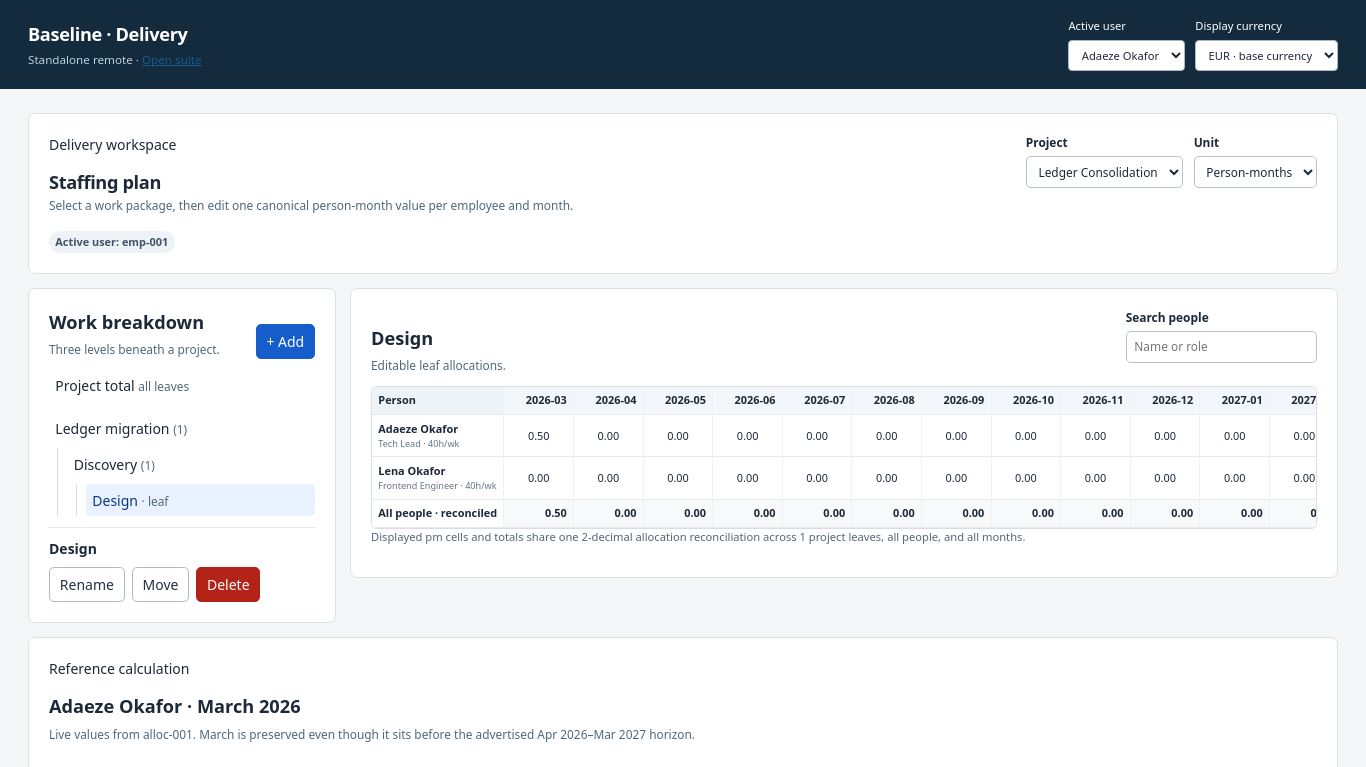
Scenario: standalone adapters and hosted integration › keeps a single-child parent read-only and clears a deleted project selection
Click the button "Discovery (1)" at (191, 464), box [68,448,315,480]
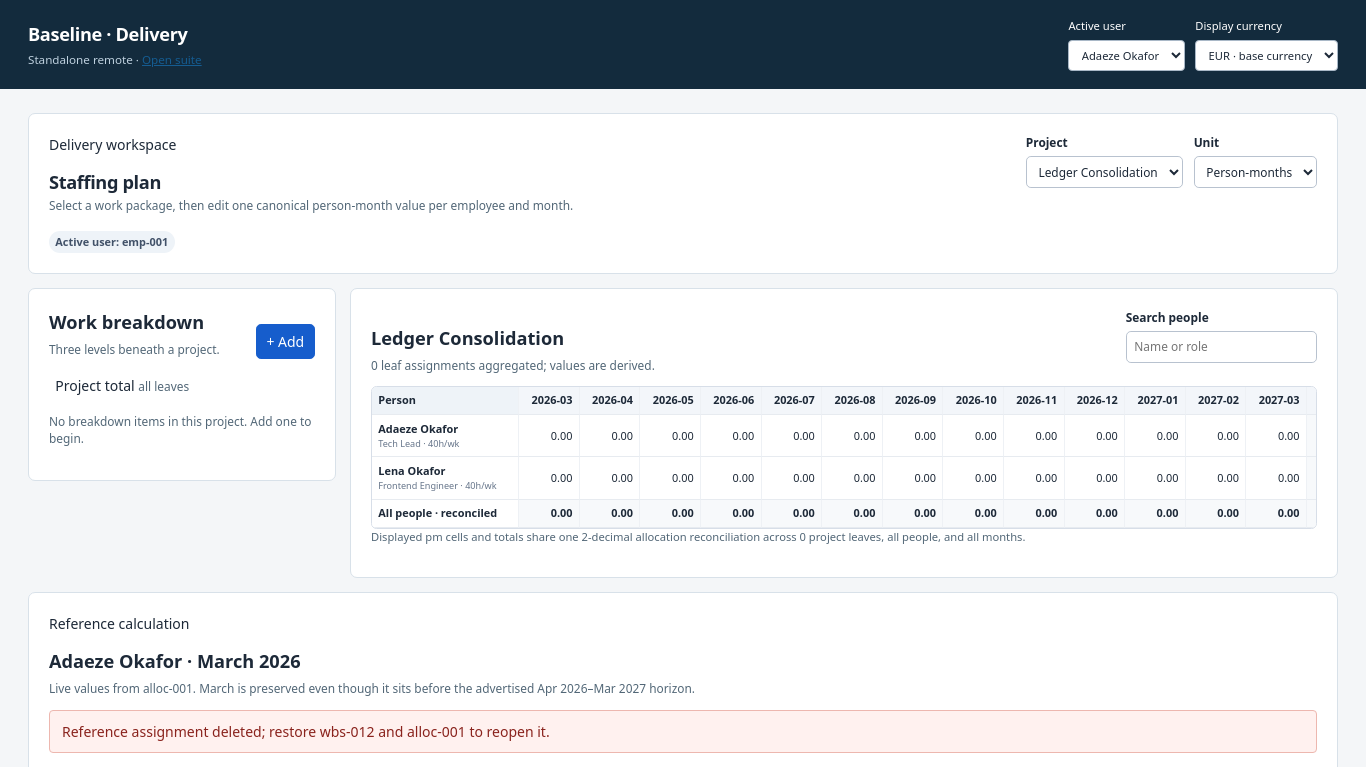
expect the text "No breakdown items in this project. Add one to begin." is shown: met, box [49,412,315,448]
Select "Reporting Platform" in the dropdown labelled "Project" at (1104, 172), box [1026,156,1183,188]
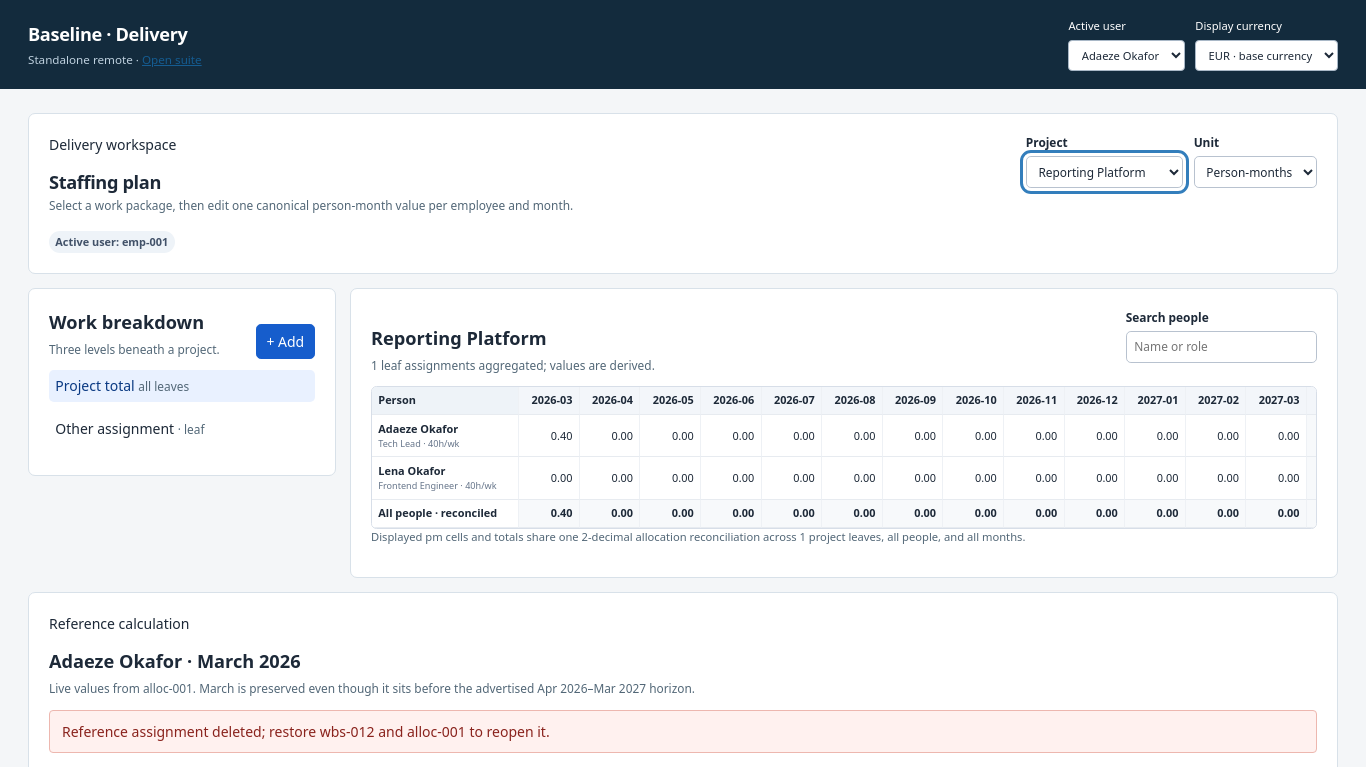
expect the button "Ledger migration" is not shown: met
expect the heading "Reporting Platform" is shown: met, box [371,326,547,350]
